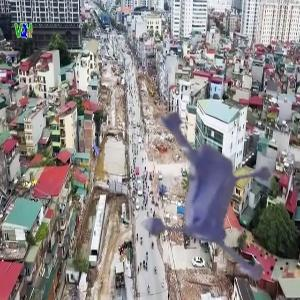drone: (84, 75, 293, 284)
